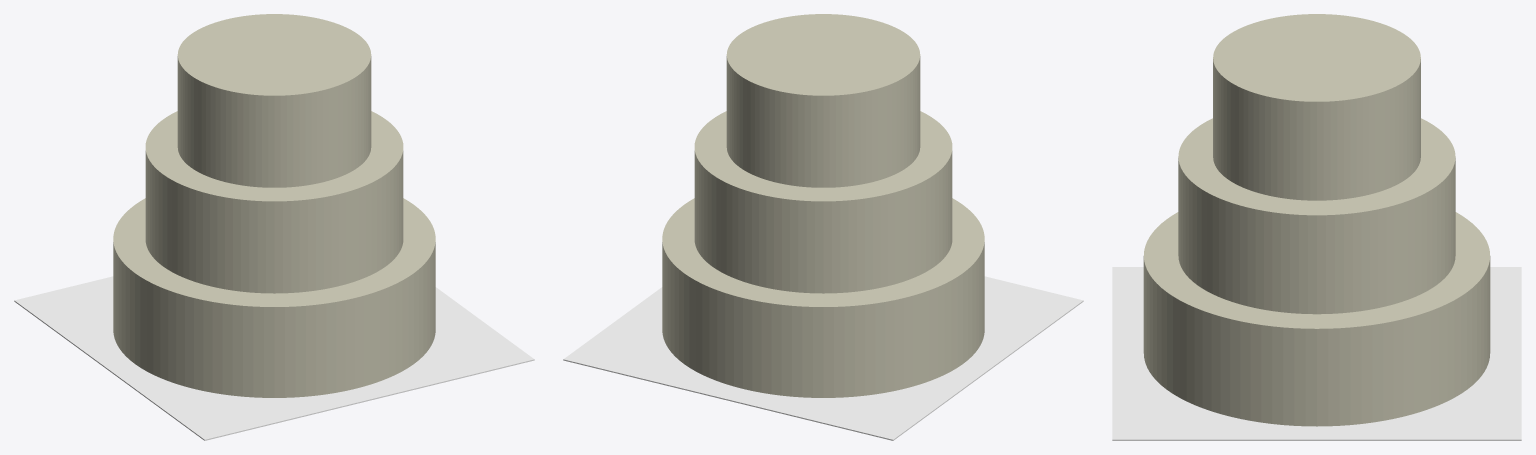
Rendered from cake_tier3_10-8-6_layers2_v26.glb.
The picture shows the model from 3 angles, left to right: view 1: azimuth 30°, elevation 25°; view 2: azimuth 150°, elevation 25°; view 3: azimuth 270°, elevation 25°; orthographic projection. The views are drawn at different scales.
Parts seen in each view (by area): view 1: Tier0, Tier2, Tier1, Board; view 2: Tier0, Tier2, Tier1, Board; view 3: Tier0, Tier1, Tier2, Board.
Boxes of the visible parts, x1,y1,x2,y2 form: Tier0: (113, 198, 435, 397); Tier2: (177, 14, 371, 187); Tier1: (145, 111, 403, 293); Board: (14, 276, 534, 440); Tier0: (662, 198, 984, 397); Tier2: (726, 14, 920, 187); Tier1: (694, 111, 952, 293); Board: (563, 276, 1083, 440); Tier0: (1143, 212, 1490, 426); Tier1: (1178, 118, 1455, 314); Tier2: (1213, 14, 1420, 200); Board: (1112, 267, 1521, 440).
Bounding box in the file's own units: 0.3 × 0.24 × 0.3.
